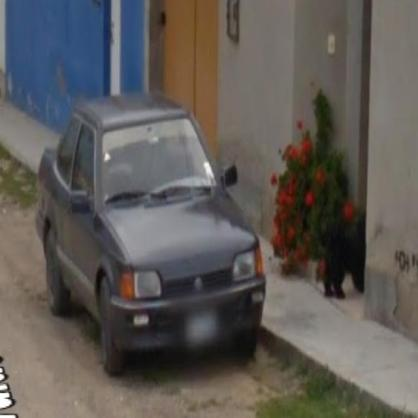car: (32, 96, 268, 378)
